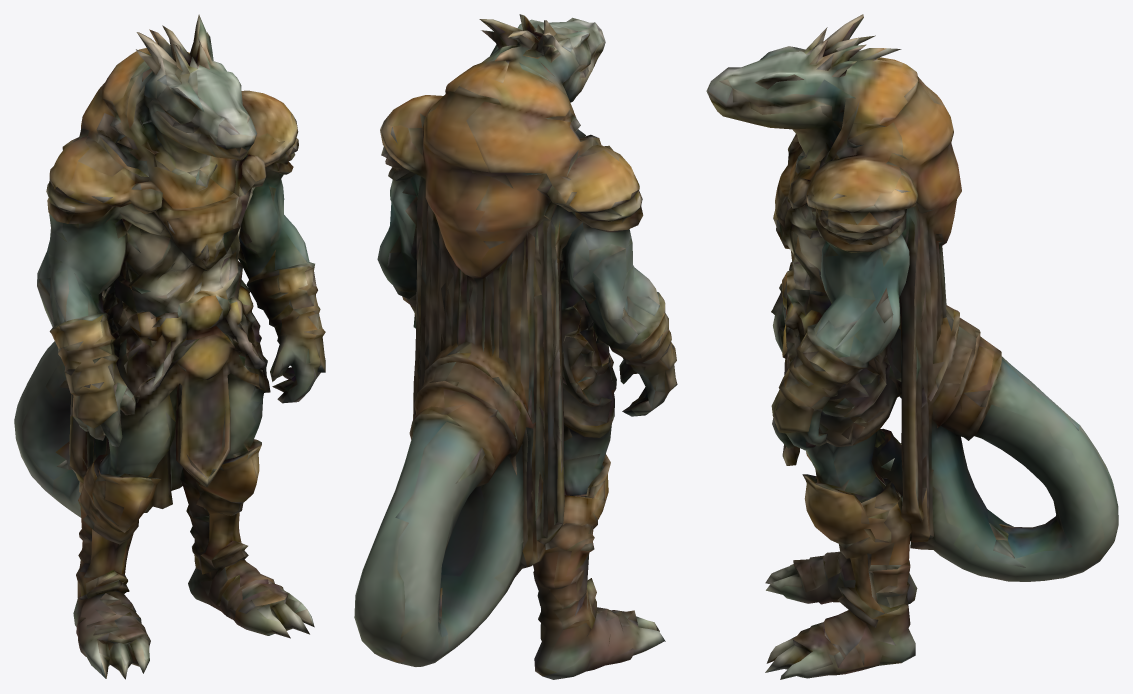
File: Rathos_final.glb
3 views of the same model, side by side, from view 1: azimuth 30°, elevation 25°; view 2: azimuth 150°, elevation 25°; view 3: azimuth 270°, elevation 25° (orthographic). The views are drawn at different scales.
Parts seen in each view (by area): view 1: Mesh_0; view 2: Mesh_0; view 3: Mesh_0.
Part boxes in pixels (bbox=[...]): Mesh_0: bbox=[14, 14, 325, 679]; Mesh_0: bbox=[354, 14, 677, 679]; Mesh_0: bbox=[706, 14, 1118, 679].
Bounding box in the file's own units: 0.8911 × 2 × 1.24.
Materials: 1 (1 with a texture image).
